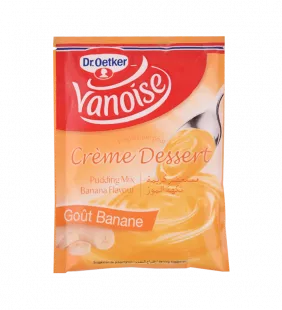Promotion: (44, 28, 237, 284)
